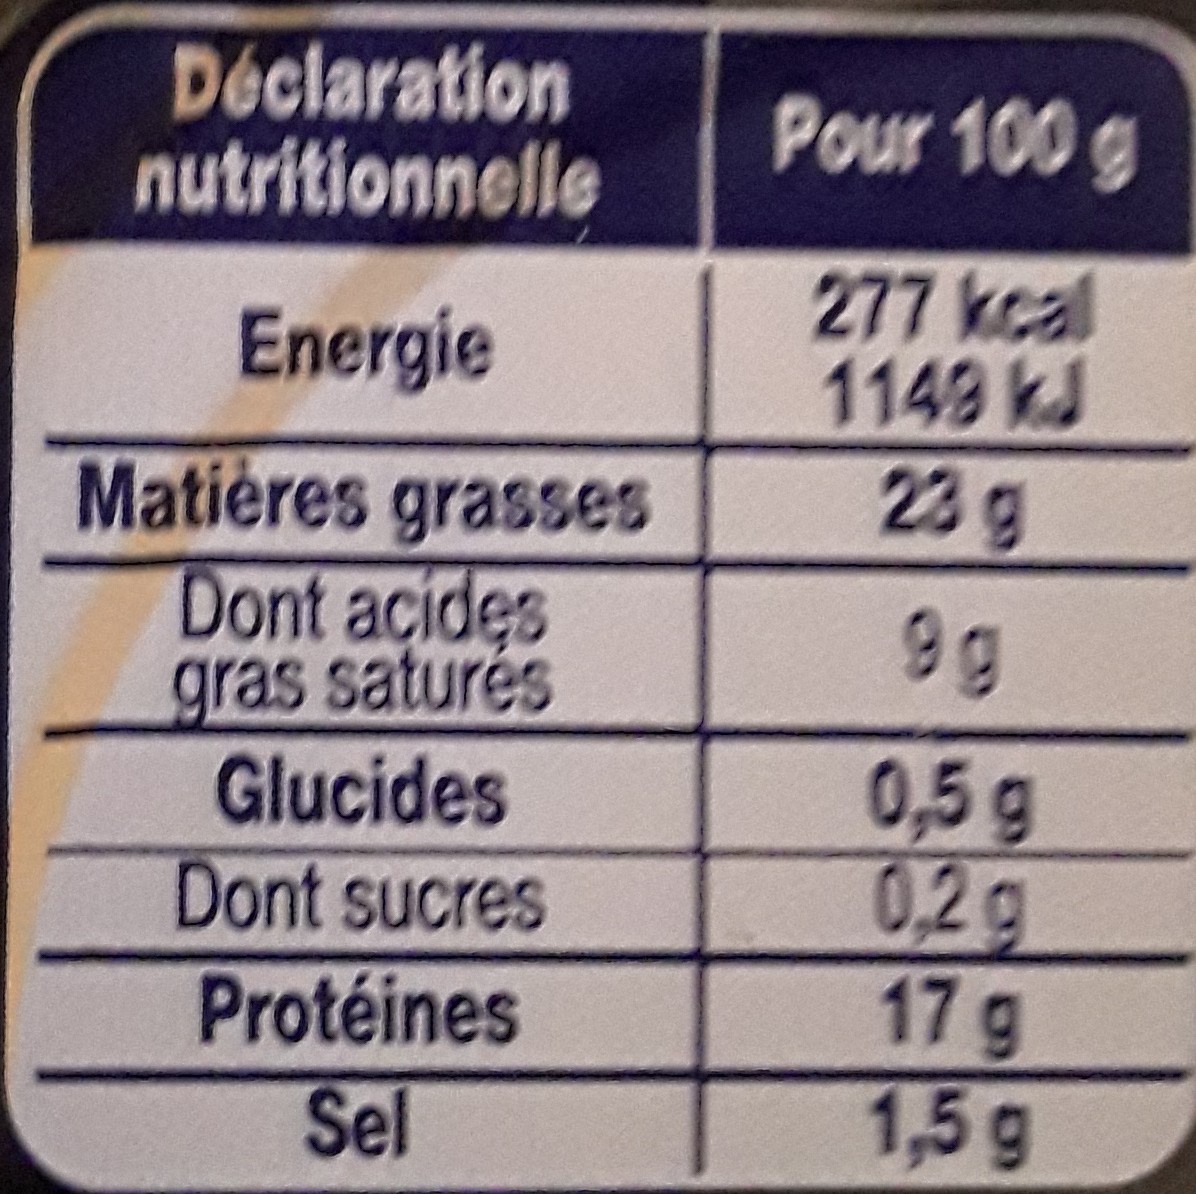column: (77, 47, 653, 1172), (773, 51, 1137, 1174)
table: (8, 12, 1196, 1192)
